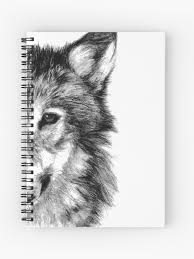Lobo: (30, 34, 132, 220)
